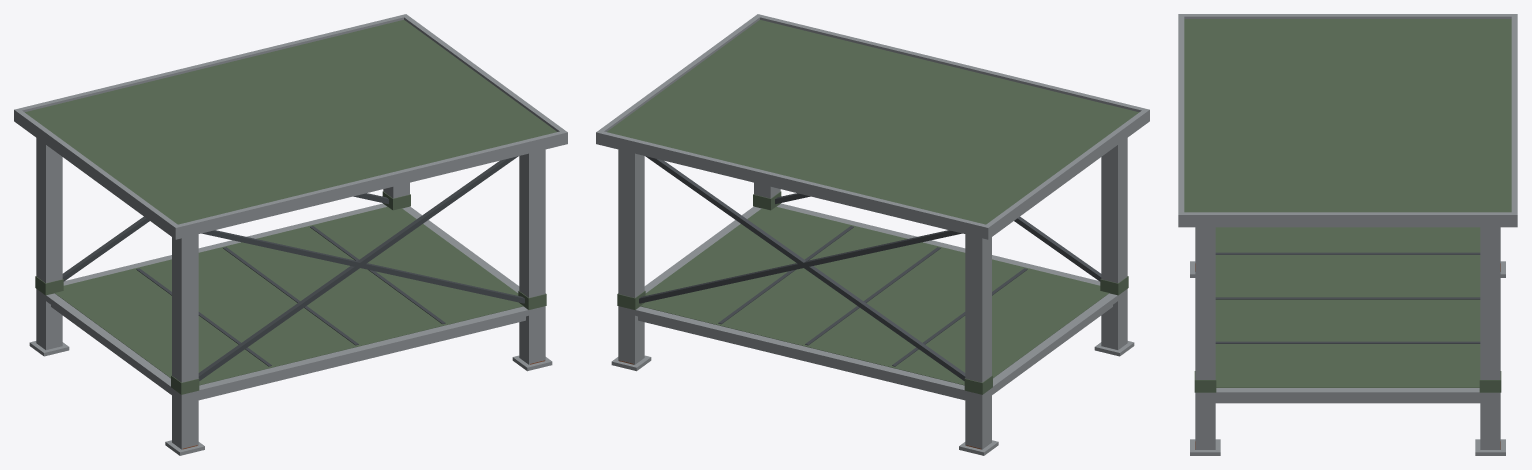
The model's file is supply_stand_woodland.glb.
3 views of the same model, side by side, from view 1: azimuth 30°, elevation 25°; view 2: azimuth 150°, elevation 25°; view 3: azimuth 270°, elevation 25° (orthographic). The views are drawn at different scales.
Parts seen in each view (by area): view 1: Stand_Body; view 2: Stand_Body; view 3: Stand_Body.
Boxes of the visible parts, box(x1,y1,x2,y2) form: Stand_Body: box(14, 14, 567, 455); Stand_Body: box(596, 14, 1149, 455); Stand_Body: box(1178, 14, 1517, 455).
Bounding box in the file's own units: 1.4 × 0.8 × 1.
